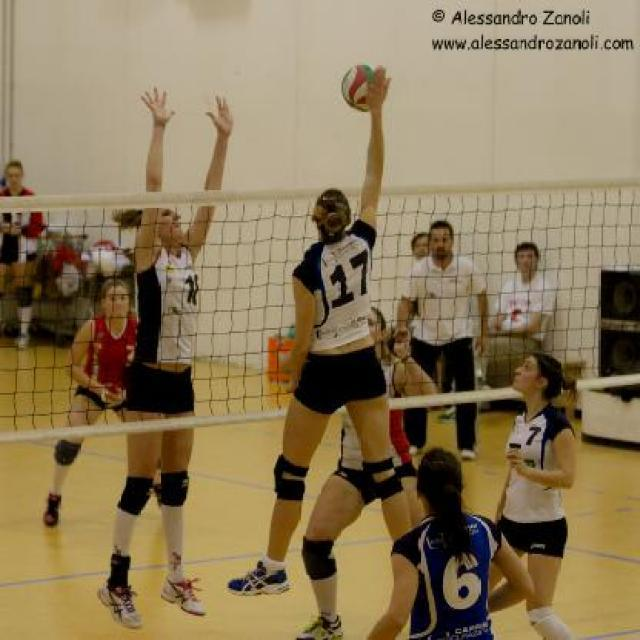volleyball: (341, 64, 376, 112)
